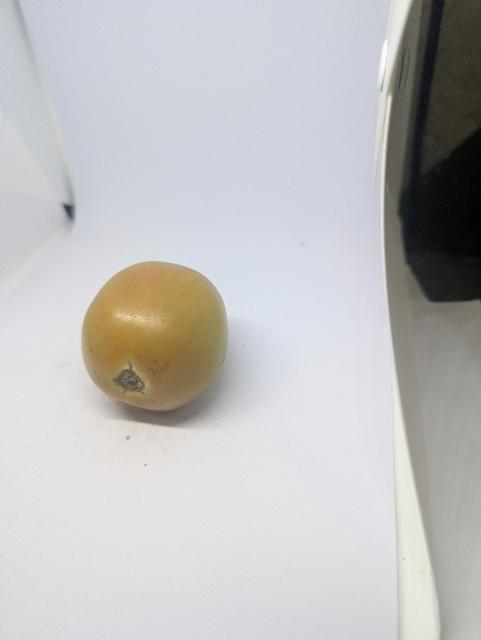breaker: (82, 262, 229, 411)
